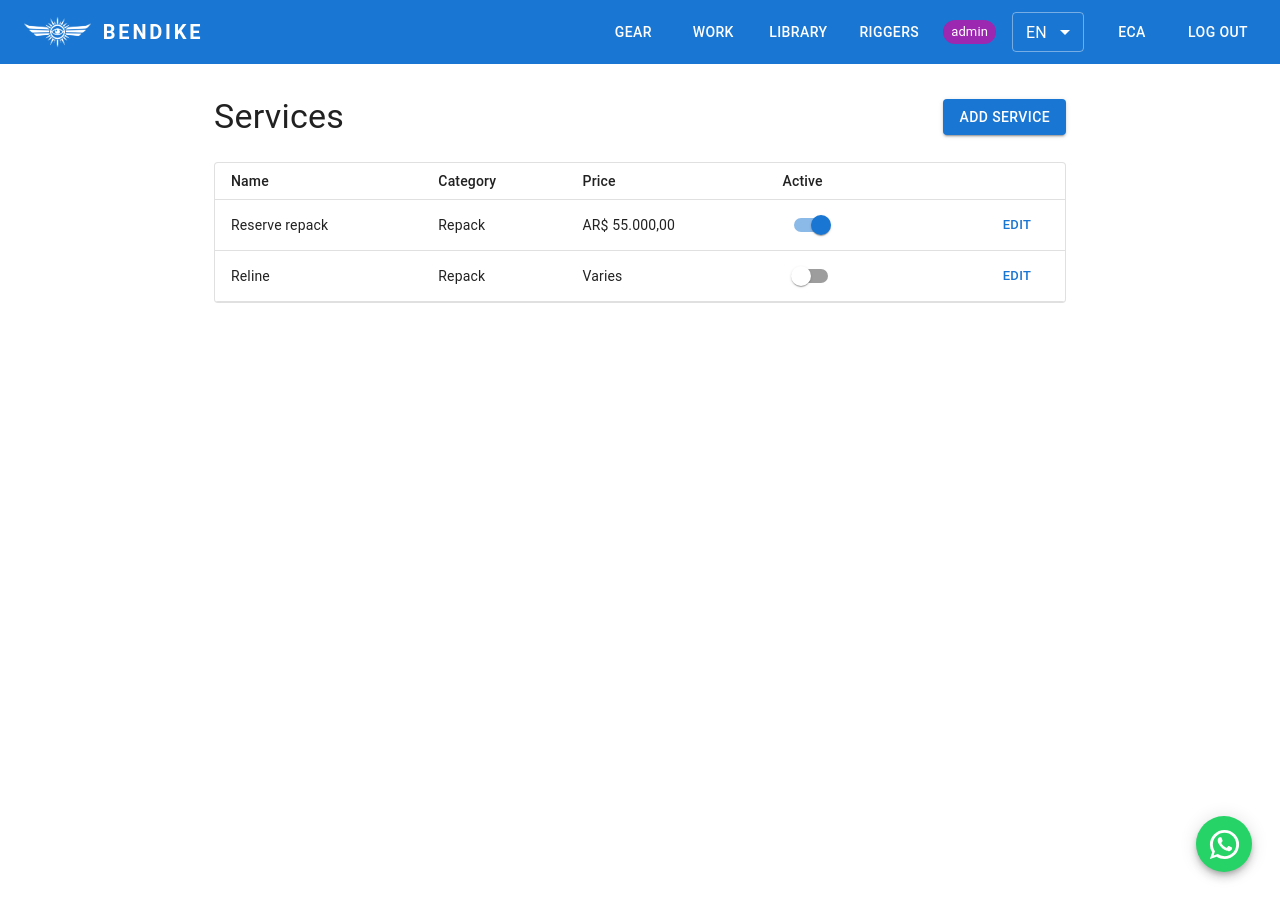
Test: ServicesAdminPage › editing a service › changing the price saves the amount and currency
Expected: the text "Reserve repack" is shown, [215,200,422,250]
Click the button with aria-label "Edit Reserve repack". click: coordinates (1017, 225)
box: [985,210,1049,240]
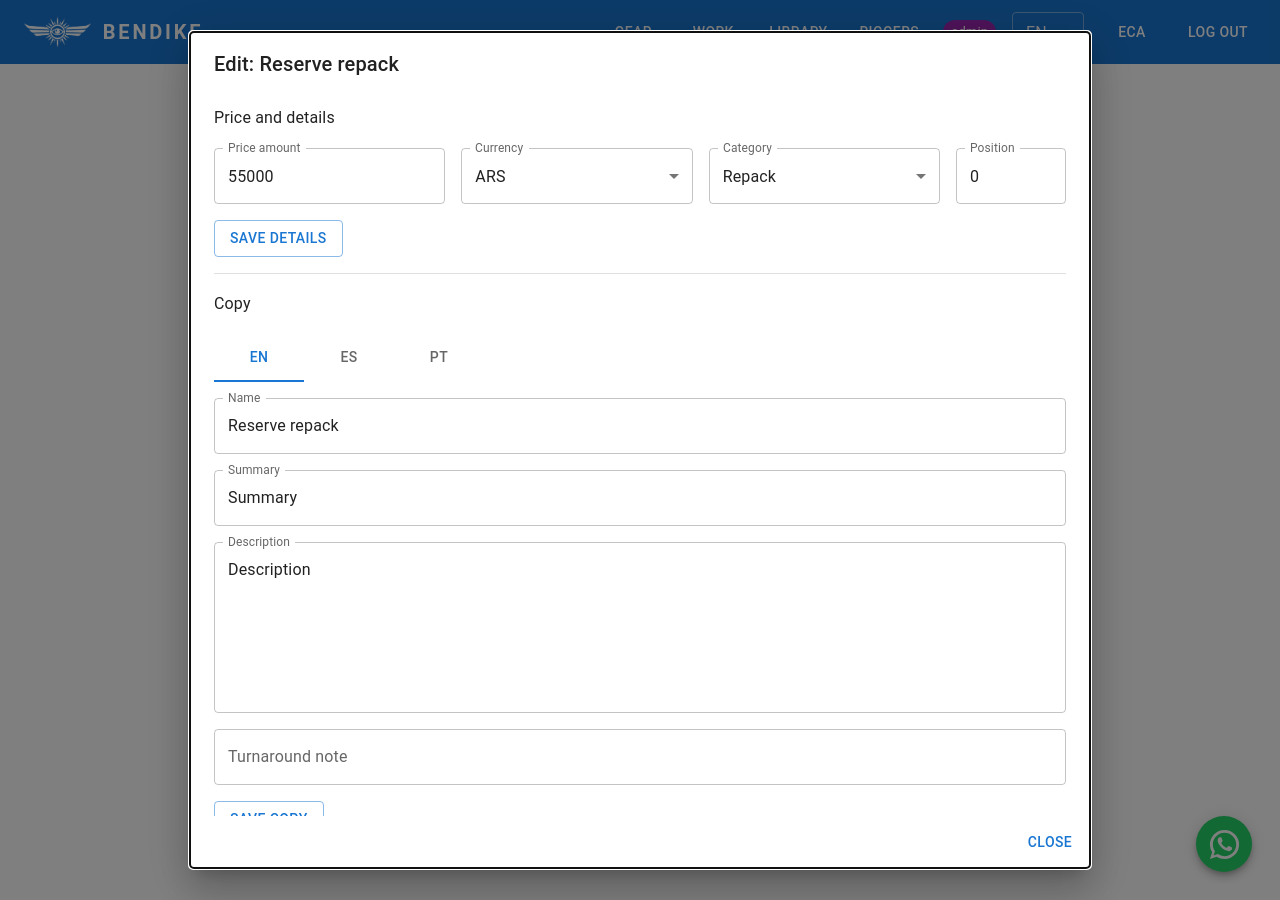
Replace the text in the field labelled "Price amount" with "60.000". click: coordinates (330, 176)
box: [214,148,445,204]
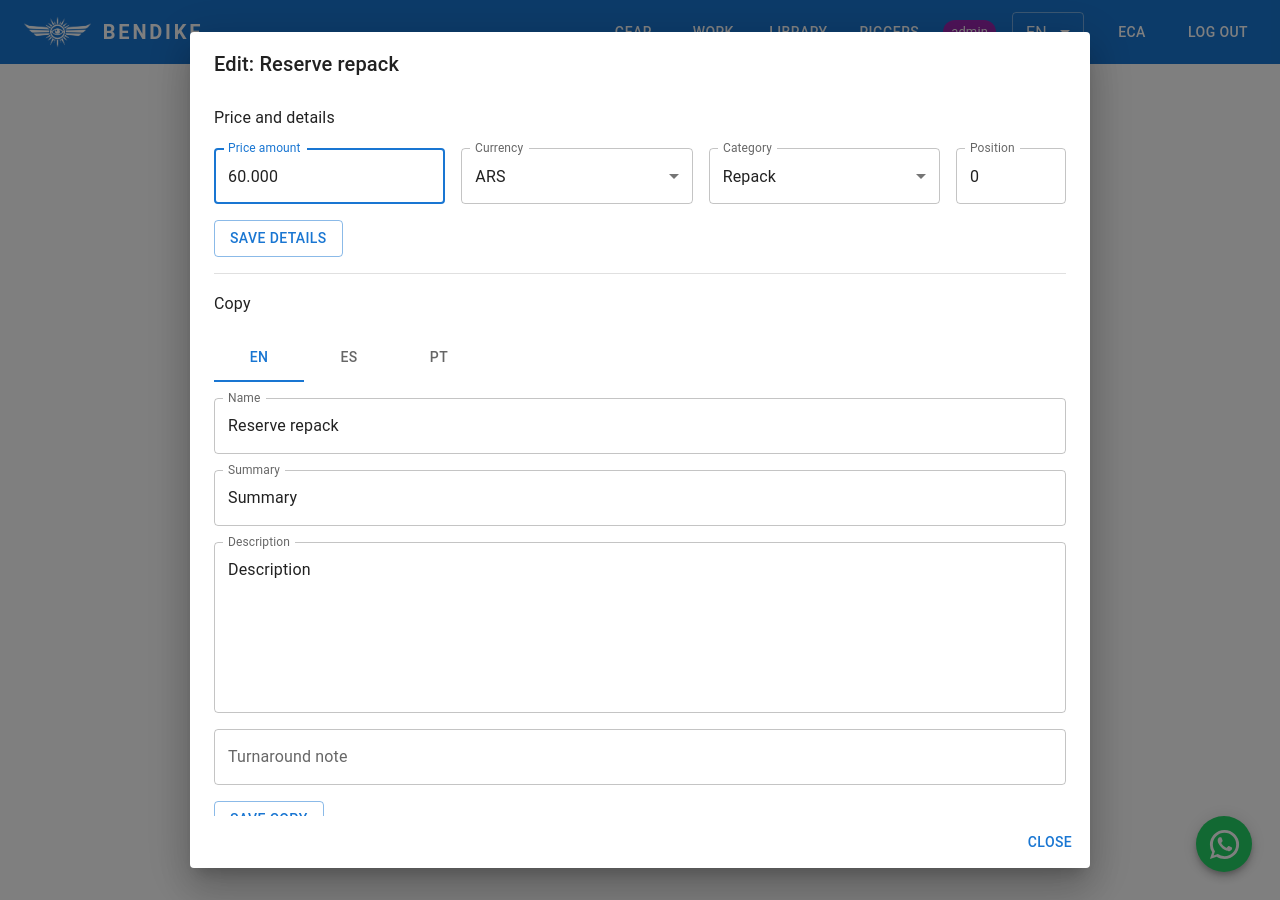
Click the button "Save details". click: coordinates (278, 238)
box: [214,220,343,256]
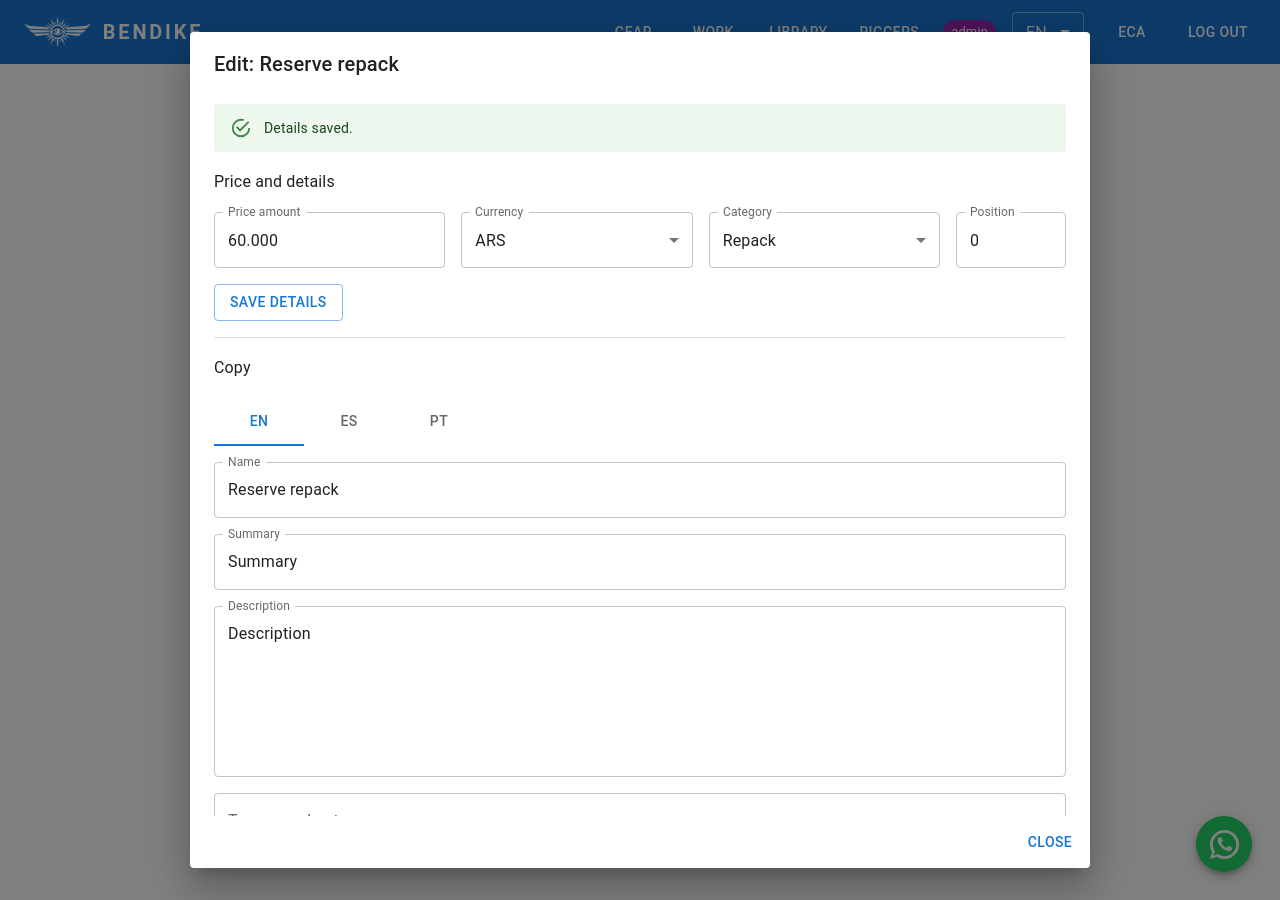
Result: the text "Details saved." is shown at [264,120,353,136]
